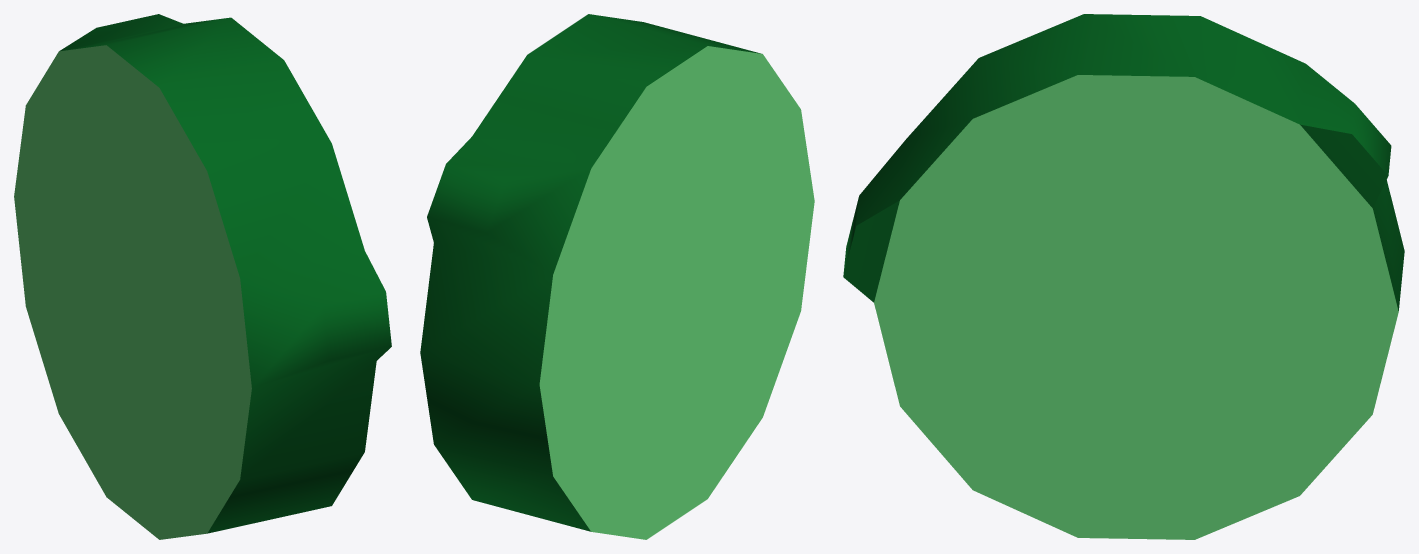
The model's file is mesh_PickleSlice_Stage07.fbx.
3 views of the same model, side by side, from view 1: azimuth 30°, elevation 25°; view 2: azimuth 150°, elevation 25°; view 3: azimuth 270°, elevation 25° (orthographic). The views are drawn at different scales.
Visible parts, largest first — view 1: mesh_PickleSlice_Stage07; view 2: mesh_PickleSlice_Stage07; view 3: mesh_PickleSlice_Stage07.
Part boxes in pixels (<box>): mesh_PickleSlice_Stage07: <box>14,14,391,539</box>; mesh_PickleSlice_Stage07: <box>420,14,814,539</box>; mesh_PickleSlice_Stage07: <box>843,14,1404,539</box>.
Bounding box in the file's own units: 0.0105 × 0.0325 × 0.0357.
